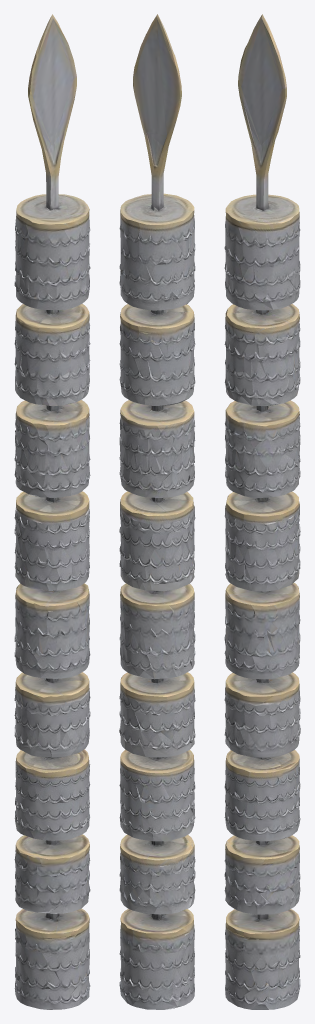
File: w3hdrums.glb
3 renders of one model, left to right at view 1: azimuth 30°, elevation 25°; view 2: azimuth 150°, elevation 25°; view 3: azimuth 330°, elevation 25°, orthographic.
Parts seen in each view (by area): view 1: output_unwrapped; view 2: output_unwrapped; view 3: output_unwrapped.
Part boxes in pixels (bbox=[...]): output_unwrapped: bbox=[14, 14, 90, 1009]; output_unwrapped: bbox=[119, 14, 195, 1009]; output_unwrapped: bbox=[224, 14, 300, 1009].
Size of the model in its own units: 0.1959 by 2.8 by 0.1948.
1 material, 1 textured.
